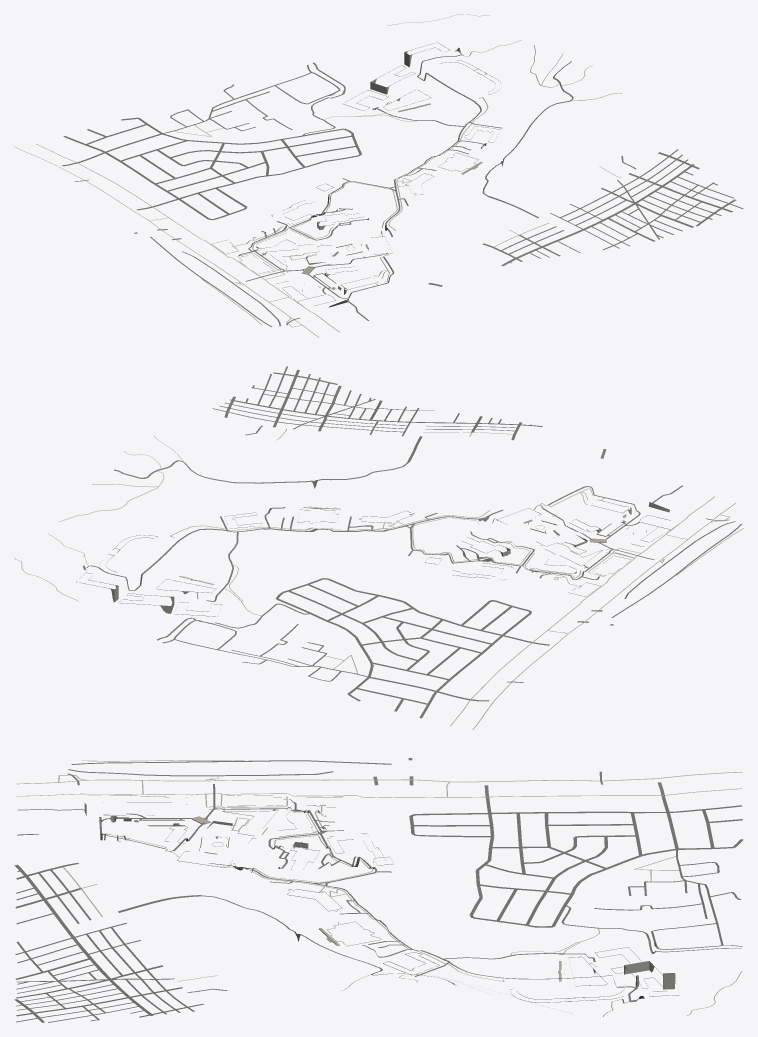
3 views of the same model, one above another, from view 1: azimuth 30°, elevation 25°; view 2: azimuth 150°, elevation 25°; view 3: azimuth 270°, elevation 25° (orthographic). The views are drawn at different scales.
Parts seen in each view (by area): view 1: gachon-asphalt-overlay, gachon-paving-overlay, site-0; view 2: gachon-asphalt-overlay, gachon-paving-overlay, site-0; view 3: gachon-asphalt-overlay, gachon-paving-overlay, site-0.
Boxes of the visible parts, x1,y1,x2,y2 form: gachon-asphalt-overlay: [62, 47, 743, 326]; gachon-paving-overlay: [14, 14, 621, 337]; site-0: [212, 42, 500, 305]; gachon-asphalt-overlay: [83, 366, 742, 718]; gachon-paving-overlay: [14, 428, 743, 729]; site-0: [76, 499, 675, 616]; gachon-asphalt-overlay: [14, 758, 743, 1022]; gachon-paving-overlay: [16, 760, 742, 1016]; site-0: [103, 795, 679, 1002].
Bounding box in the file's own units: 998 × 131 × 1040.
Materials: 11 (3 with a texture image).
